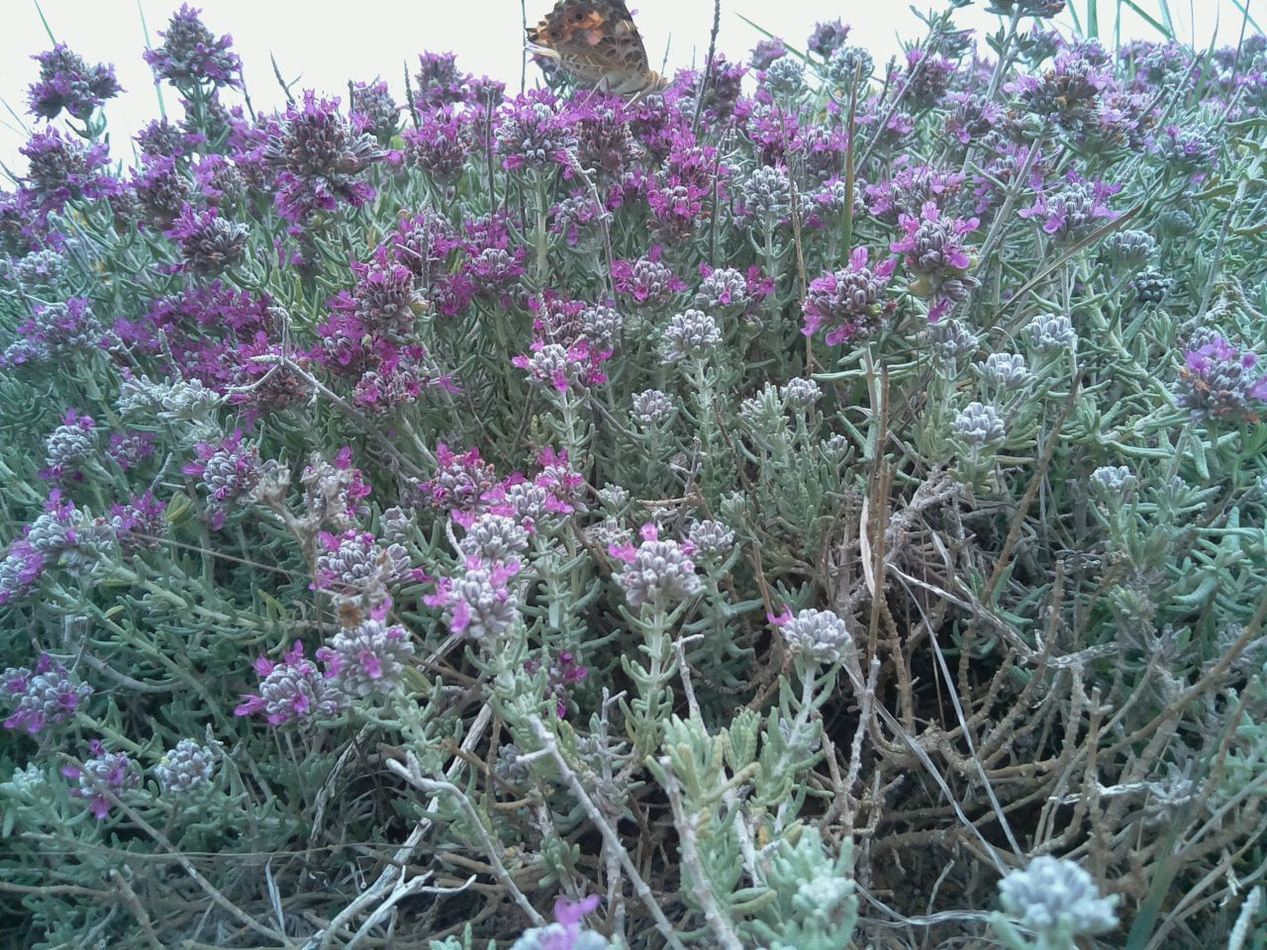Vanessa cardui: (494, 2, 696, 124)
